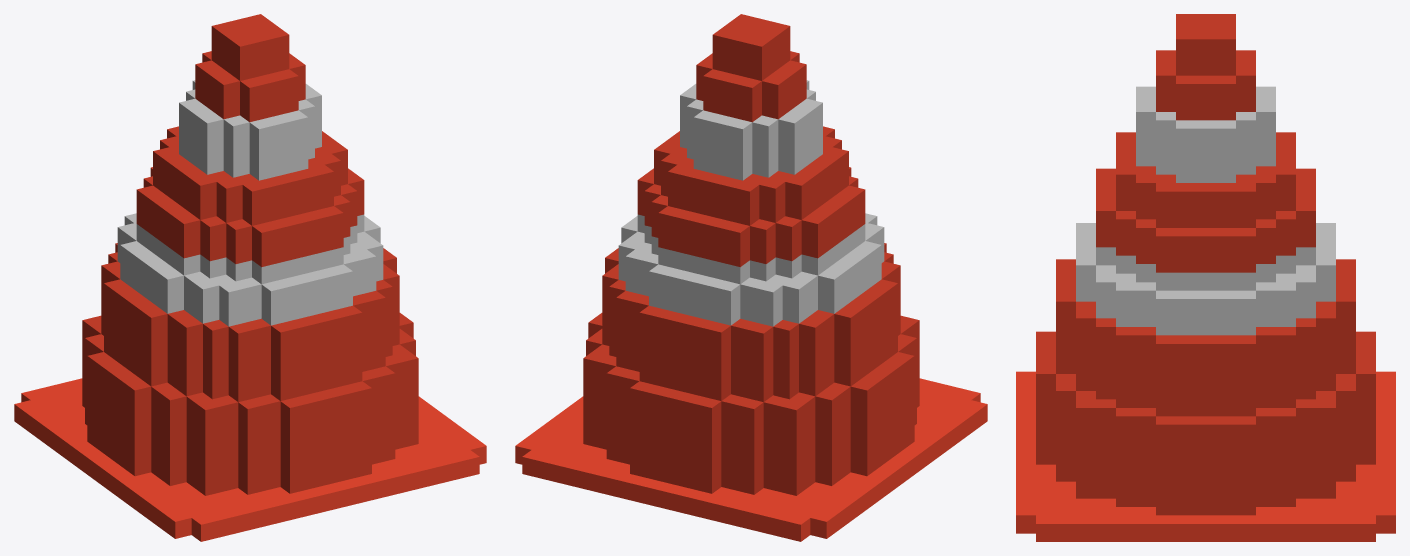
File: traffic cone.obj
3 renders of one model, left to right at view 1: azimuth 30°, elevation 25°; view 2: azimuth 150°, elevation 25°; view 3: azimuth 270°, elevation 25°, orthographic. The views are drawn at different scales.
Bounding box in the file's own units: 1.9 × 2.4 × 1.9.
Materials: 1 (1 with a texture image).
